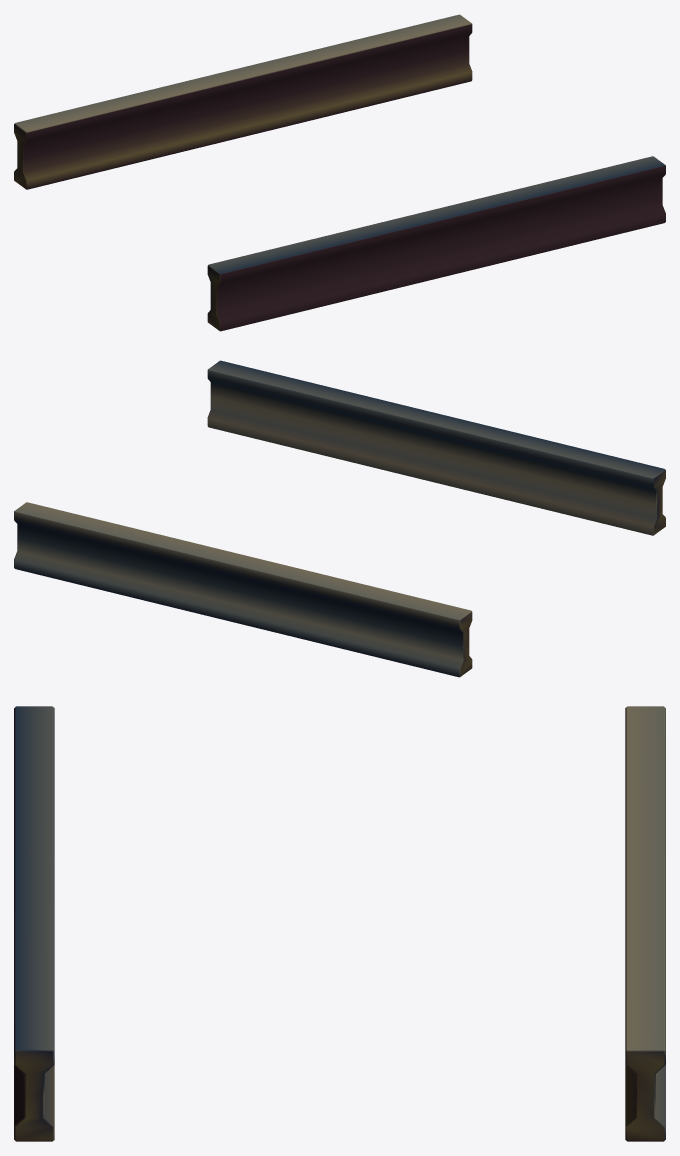
Rendered from Rail_01.fbx.
3 renders of one model, top to bottom at view 1: azimuth 30°, elevation 25°; view 2: azimuth 150°, elevation 25°; view 3: azimuth 270°, elevation 25°, orthographic. The views are drawn at different scales.
Parts seen in each view (by area): view 1: Rail_Wheels; view 2: Rail_Wheels; view 3: Rail_Wheels.
Part boxes in pixels (x1=…): Rail_Wheels: x1=14, y1=14, x2=665, y2=331; Rail_Wheels: x1=14, y1=360, x2=665, y2=677; Rail_Wheels: x1=14, y1=706, x2=665, y2=1141.
Size of the model in its own units: 200 by 25 by 160.
